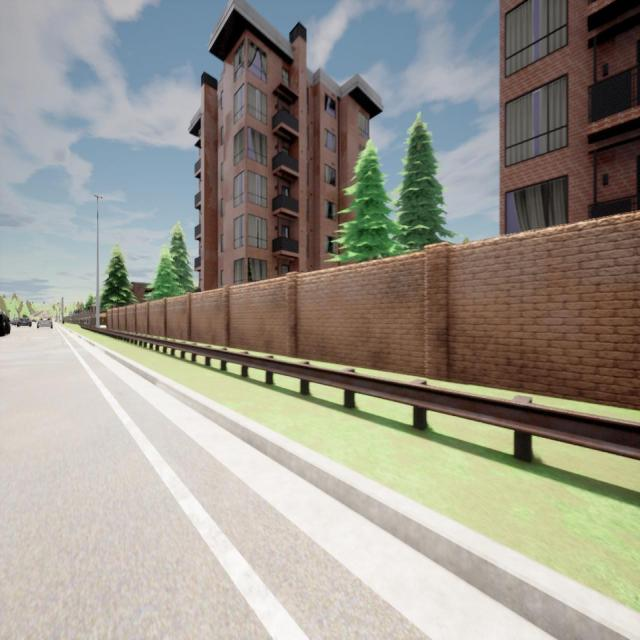Vehicle: (0, 308, 10, 336), (37, 317, 53, 328), (17, 318, 32, 327), (11, 320, 17, 326), (31, 318, 37, 323)
